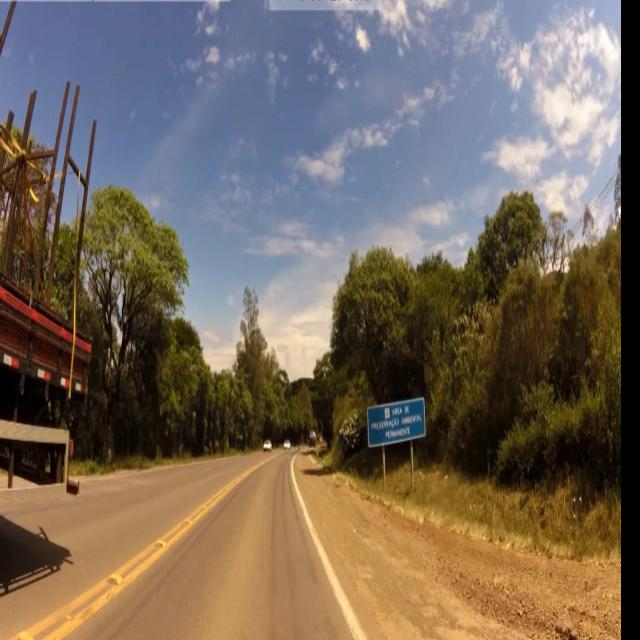LOC-6: (369, 397, 428, 450)
